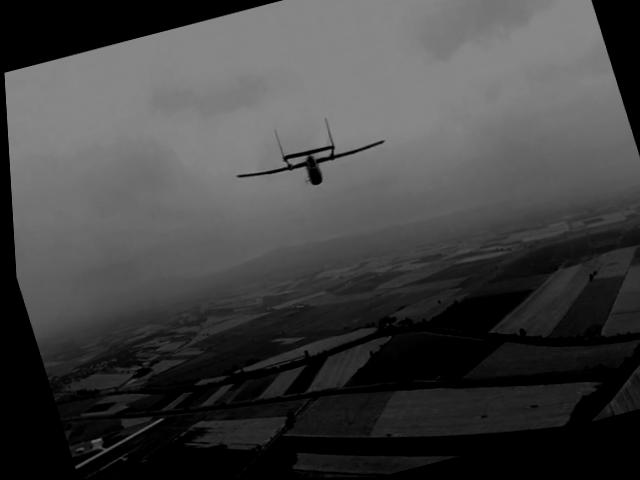hedef: (214, 101, 393, 213)
